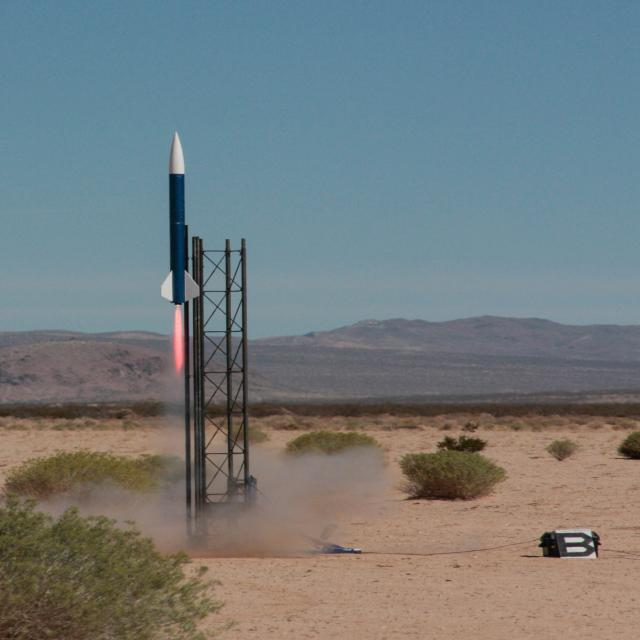Rocket: (160, 130, 202, 306)
